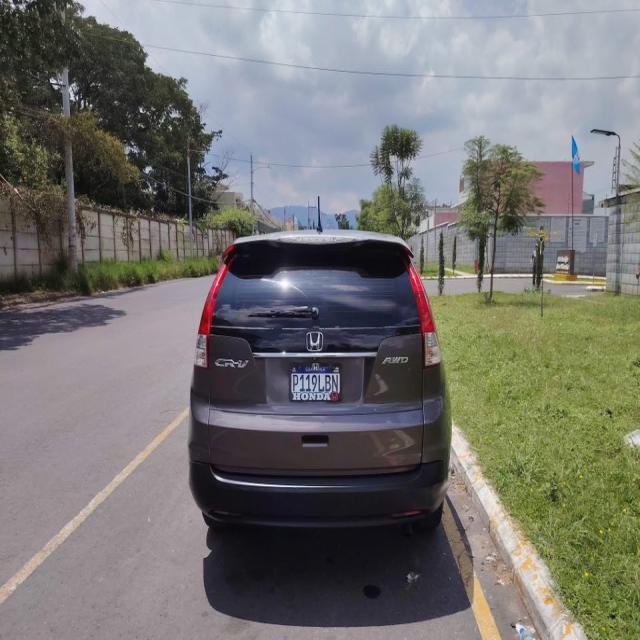Placas: (285, 358, 343, 408)
